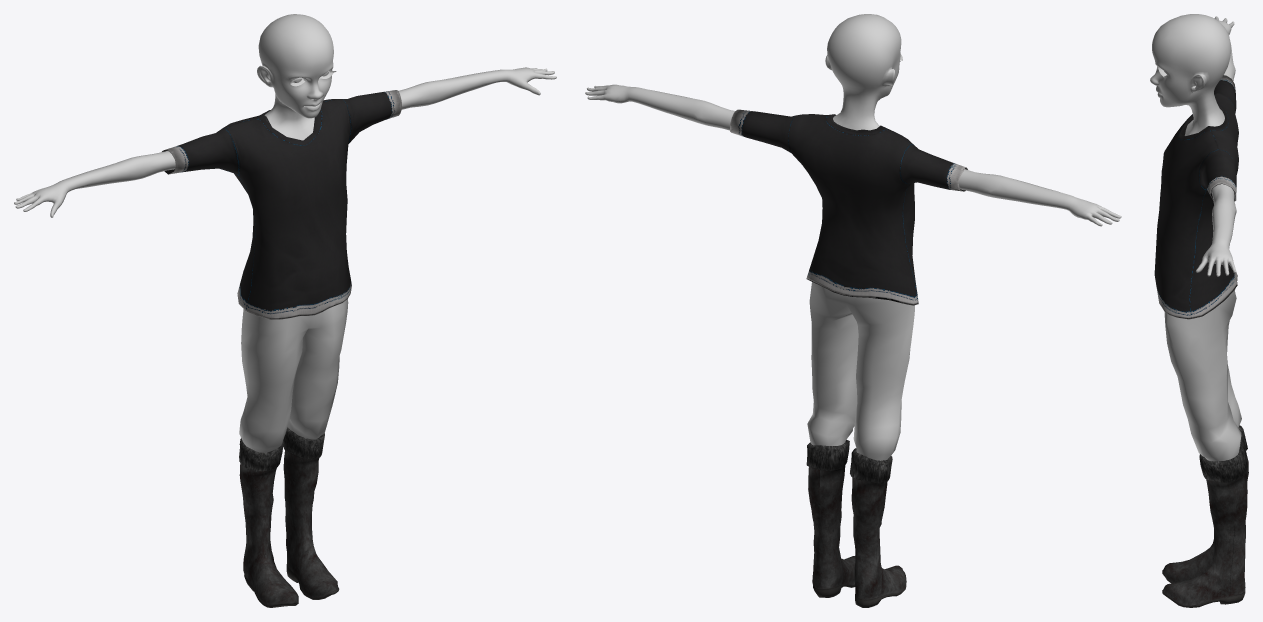
File: child3.obj
3 views of the same model, side by side, from view 1: azimuth 30°, elevation 25°; view 2: azimuth 150°, elevation 25°; view 3: azimuth 270°, elevation 25° (orthographic).
Parts seen in each view (by area): view 1: Tops, Body, Bottoms, Shoes; view 2: Tops, Bottoms, Body, Shoes; view 3: Tops, Body, Bottoms, Shoes.
Part boxes in pixels (x1,y1,x2,y2): Tops: (162, 90, 402, 319); Body: (14, 14, 556, 217); Bottoms: (239, 299, 348, 452); Shoes: (239, 427, 339, 607); Tops: (730, 109, 967, 305); Bottoms: (807, 282, 914, 460); Body: (585, 14, 1121, 226); Shoes: (806, 440, 906, 607); Tops: (1154, 75, 1238, 319); Body: (1150, 14, 1236, 276); Bottoms: (1164, 289, 1241, 461); Shoes: (1162, 425, 1248, 607).
Bounding box in the file's own units: 163 × 167 × 26.02.
